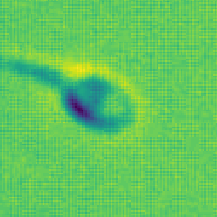normal: (1, 42, 67, 87)
